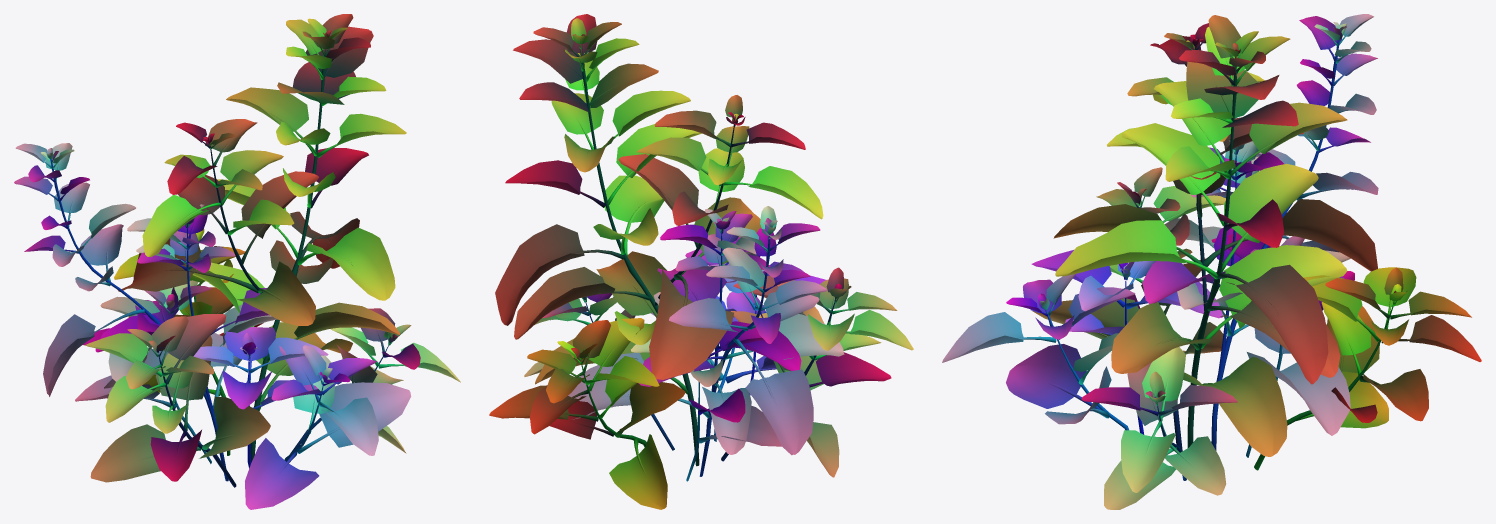
File: Lemon_Balm_umslacdia_Mid_umslacdia_VarB_LOD0.fbx
3 renders of one model, left to right at view 1: azimuth 30°, elevation 25°; view 2: azimuth 150°, elevation 25°; view 3: azimuth 270°, elevation 25°, orthographic. The views are drawn at different scales.
Visible parts, largest first — view 1: _iupx_VarB_LOD1; view 2: _iupx_VarB_LOD1; view 3: _iupx_VarB_LOD1.
Part boxes in pixels (bbox=[...]): _iupx_VarB_LOD1: bbox=[14, 14, 460, 509]; _iupx_VarB_LOD1: bbox=[489, 14, 913, 509]; _iupx_VarB_LOD1: bbox=[942, 14, 1481, 509].
Size of the model in its own units: 66.17 by 73.84 by 73.02.
